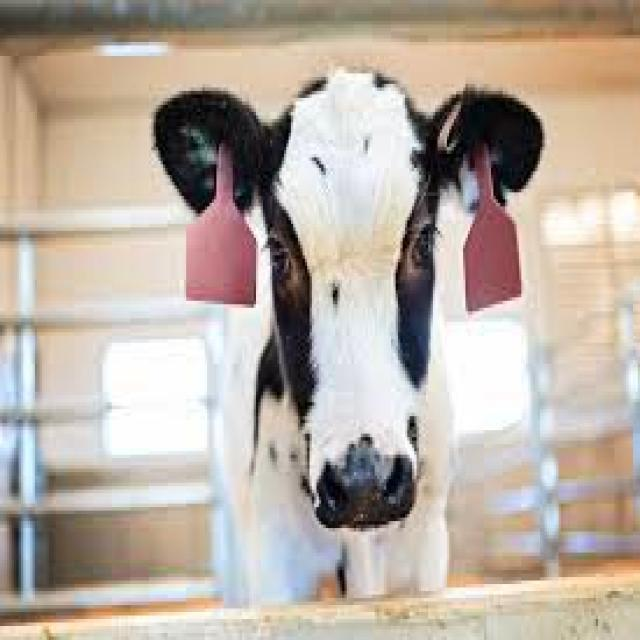cow: (154, 70, 542, 602)
